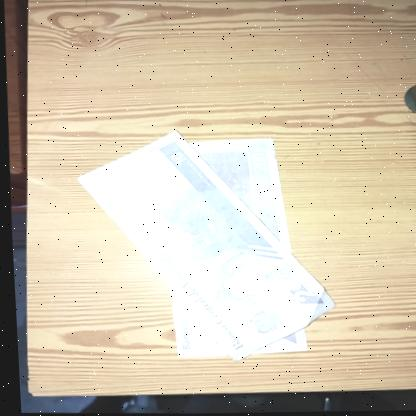ten-back-vef: (68, 126, 337, 364)
two_hundred-back-vef: (159, 137, 307, 360)
